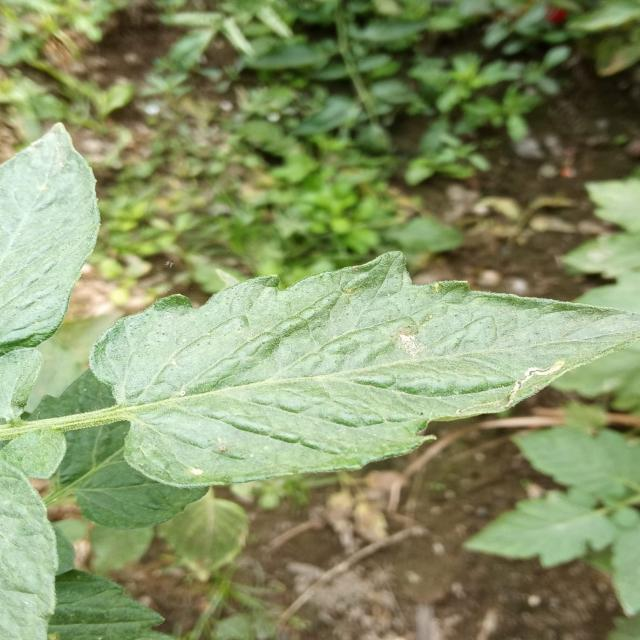Tuta absoluta: (499, 355, 570, 403)
